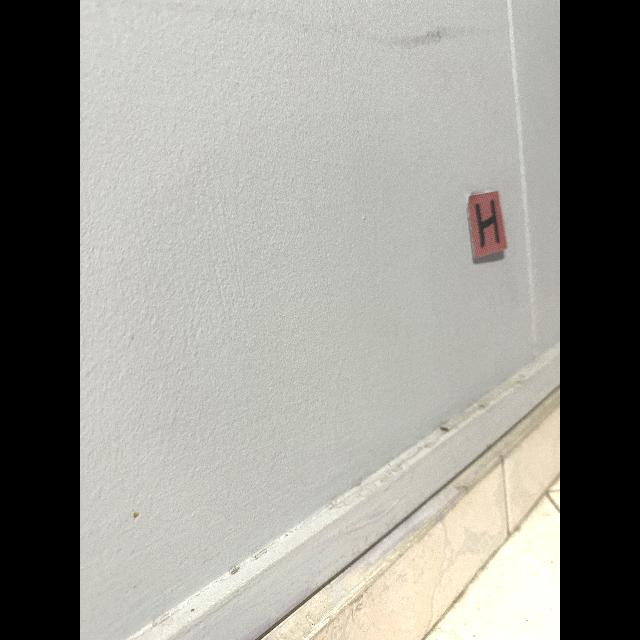RIGHT: (475, 200, 499, 247)
